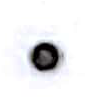cancer: (7, 21, 79, 93)
